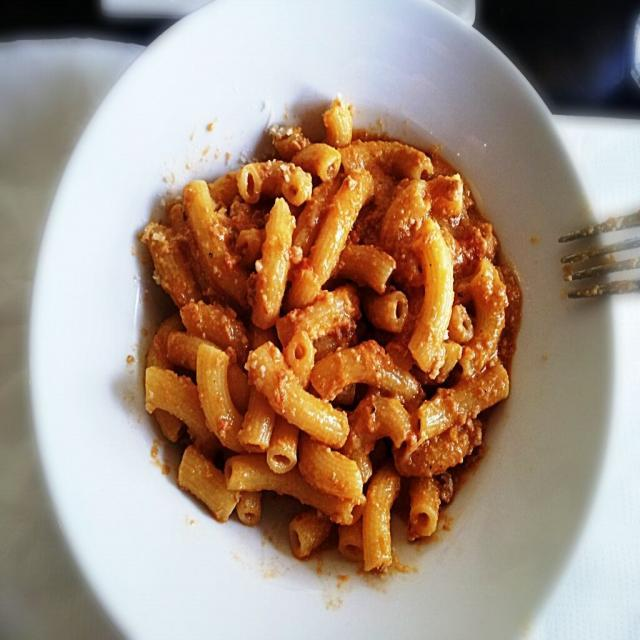Pasta al ragu: (128, 80, 543, 554)
